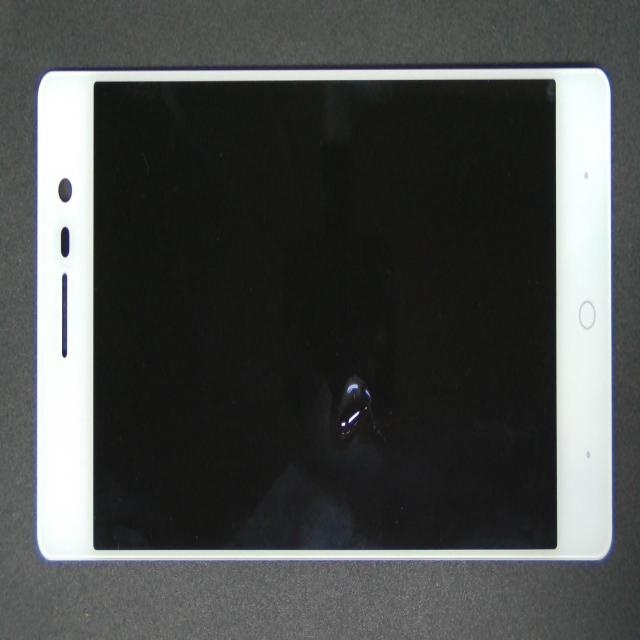oil: (198, 185, 549, 554)
